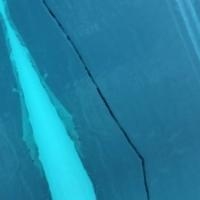crack: (37, 0, 170, 199)
